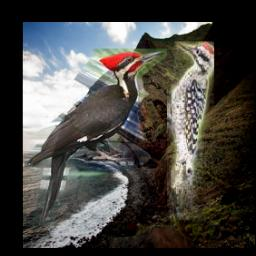Woodpecker: (25, 49, 168, 227), (167, 41, 214, 220)
